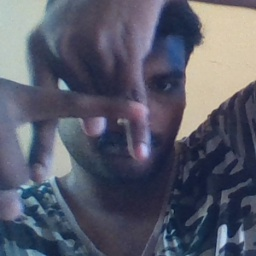H: (10, 47, 162, 183)
